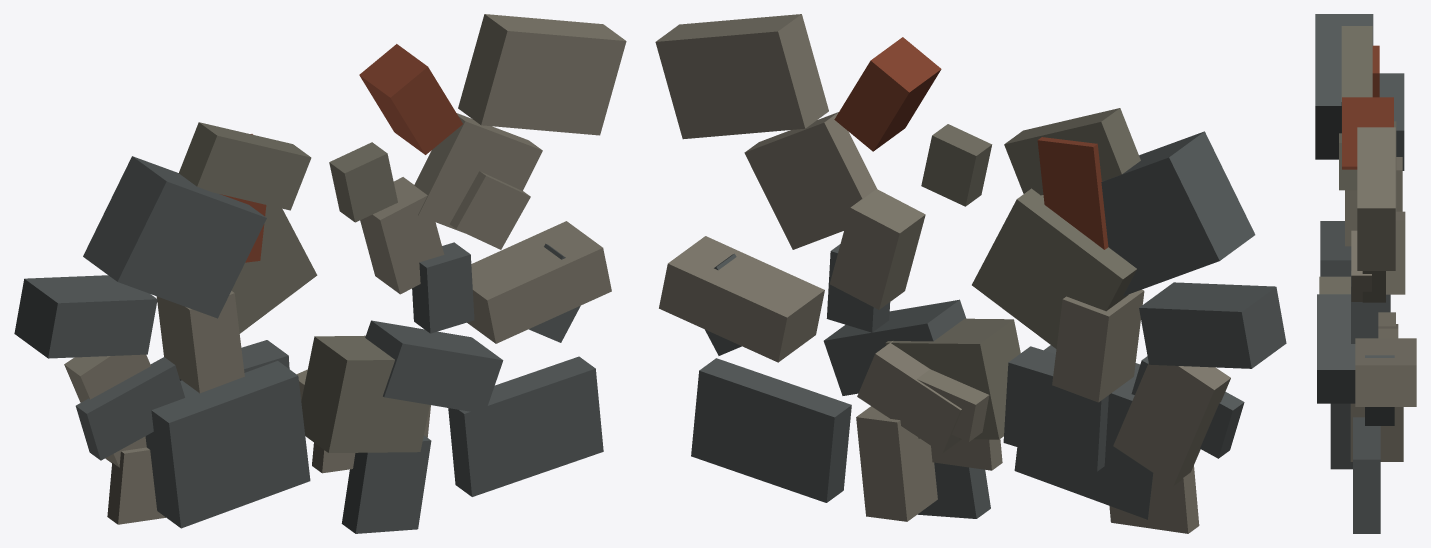
The model's file is rubble_cluster.obj.
3 views of the same model, side by side, from view 1: azimuth 30°, elevation 25°; view 2: azimuth 150°, elevation 25°; view 3: azimuth 270°, elevation 25° (orthographic). The views are drawn at different scales.
Bounding box in the file's own units: 11.47 × 8.66 × 2.06.
